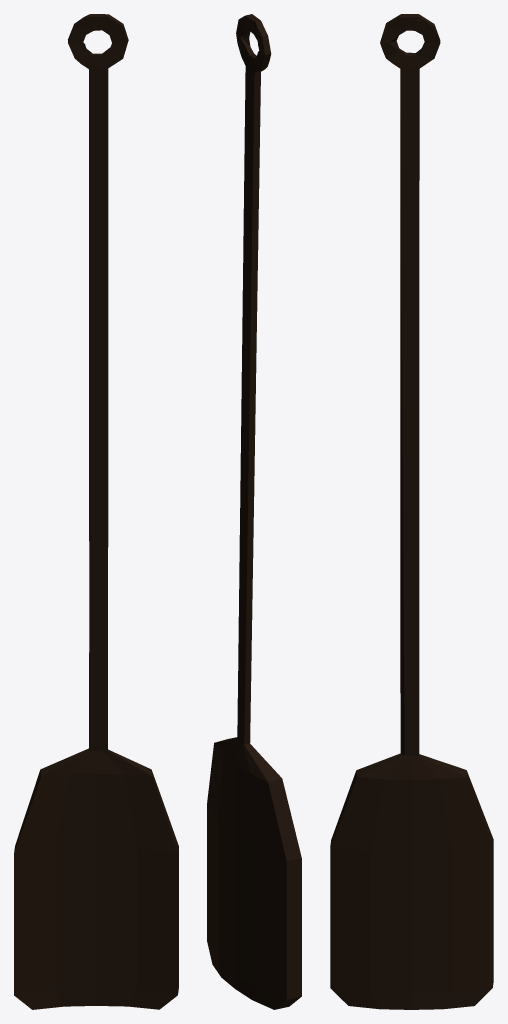
The model's file is SFFA_Tool_001.fbx.
The picture shows the model from 3 angles, left to right: view 1: azimuth 90°, elevation 25°; view 2: azimuth 210°, elevation 25°; view 3: azimuth 270°, elevation 25°; orthographic projection. The views are drawn at different scales.
Visible parts, largest first — view 1: SFFA_Tool_001; view 2: SFFA_Tool_001; view 3: SFFA_Tool_001.
Part boxes in pixels (x1,y1,x2,y2): SFFA_Tool_001: (14, 14, 178, 1009); SFFA_Tool_001: (207, 14, 301, 1009); SFFA_Tool_001: (330, 14, 493, 1009).
Bounding box in the file's own units: 2.02 × 71.2 × 10.71.
